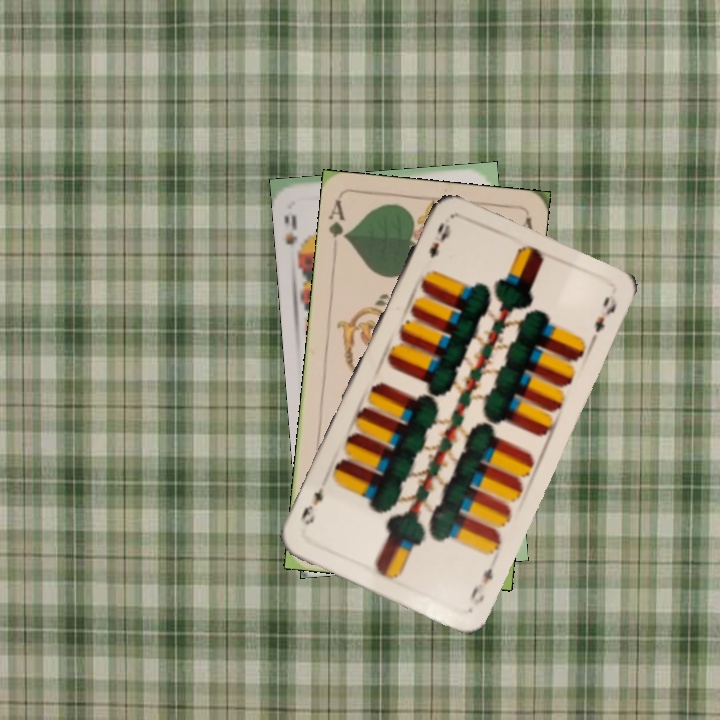E9: (466, 564, 496, 609), (425, 218, 453, 261)
GA: (325, 196, 351, 243)
S9: (280, 211, 308, 261)
